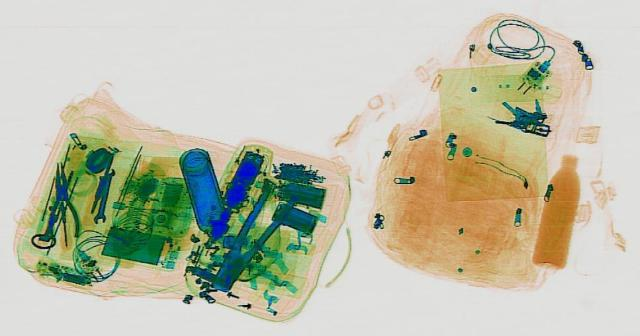Pliers: (196, 185, 304, 292), (40, 161, 78, 235)
Wrench: (90, 168, 116, 222)
